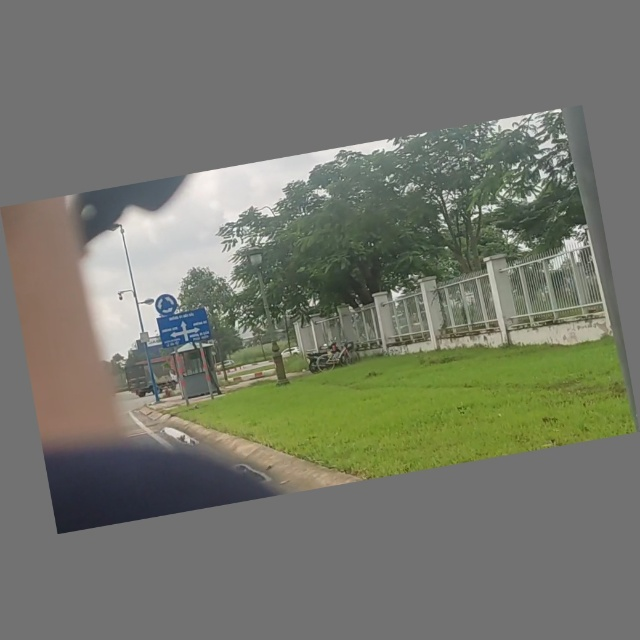R.303: (151, 291, 180, 318)
